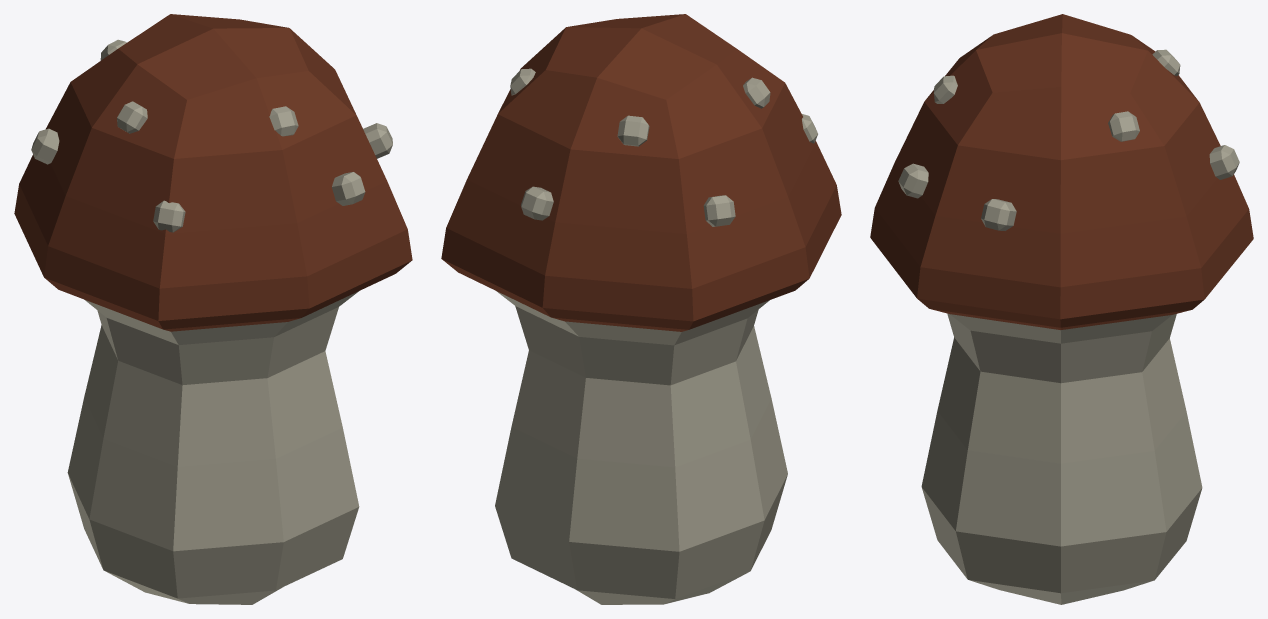
Rendered from Mushroom_2-optimized.glb.
3 renders of one model, left to right at view 1: azimuth 30°, elevation 25°; view 2: azimuth 150°, elevation 25°; view 3: azimuth 270°, elevation 25°, orthographic.
Visible parts, largest first — view 1: Mushroom_2; view 2: Mushroom_2; view 3: Mushroom_2.
Part boxes in pixels (bbox=[...]): Mushroom_2: bbox=[14, 14, 412, 604]; Mushroom_2: bbox=[441, 14, 841, 604]; Mushroom_2: bbox=[870, 14, 1253, 604].
Bounding box in the file's own units: 0.1415 × 0.2237 × 0.1415.
